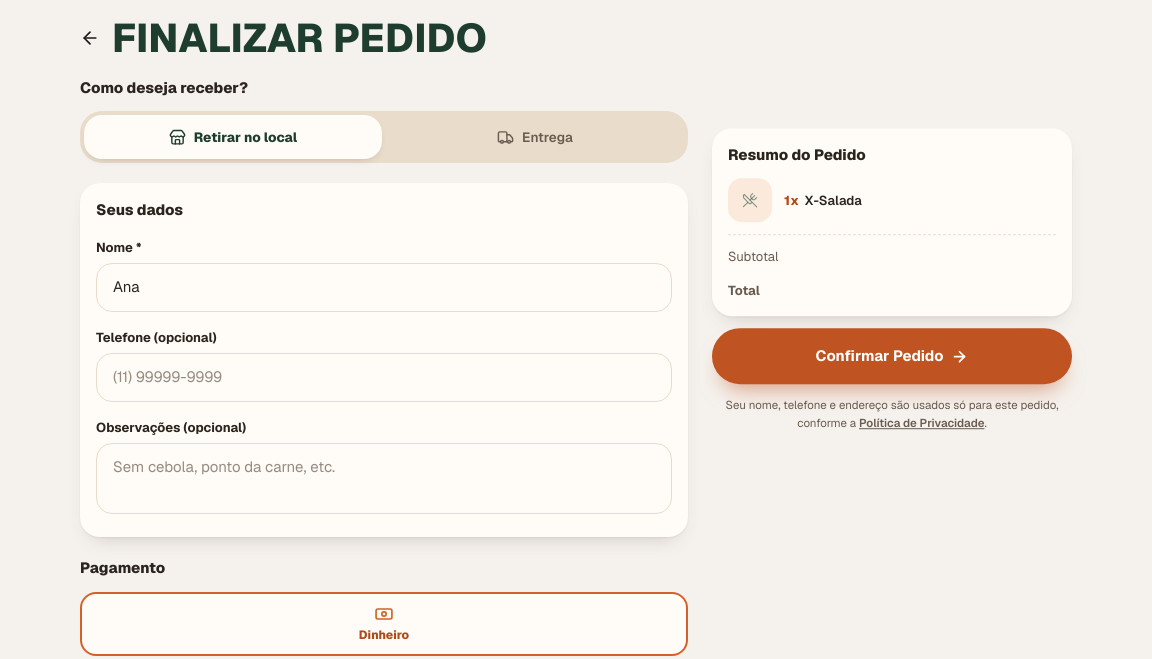
Test case: os bairros de entrega › rede caída também vira aviso
Click the button "Entrega".
click(535, 137)  # box [386,115,684,159]
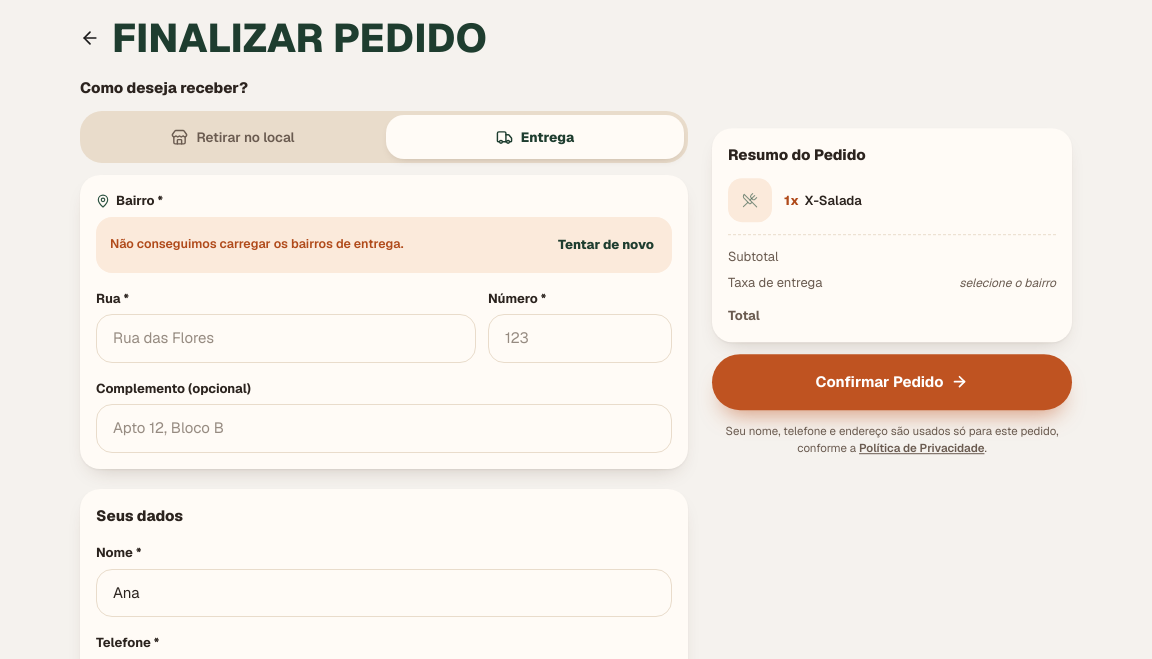
Result: the text "Não conseguimos carregar os bairros de entrega." is shown at [110,235,404,254]
